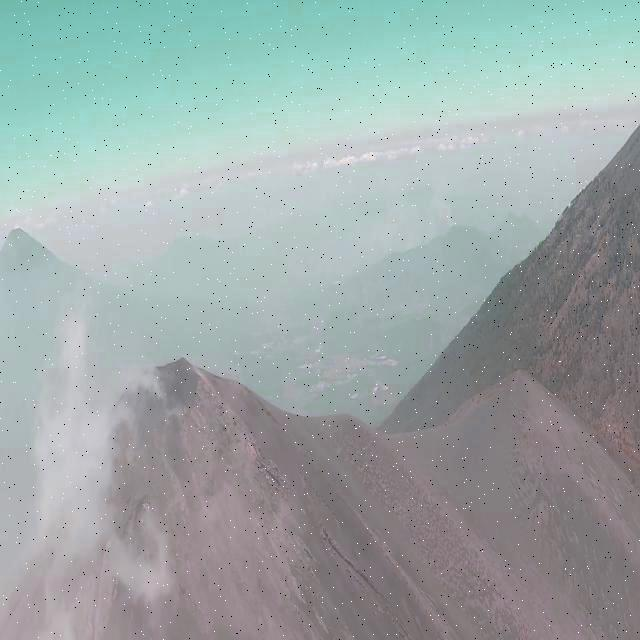Summit: (0, 320, 290, 640)
